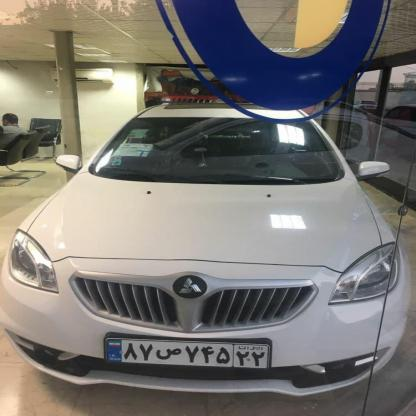Car: (0, 98, 404, 405)
